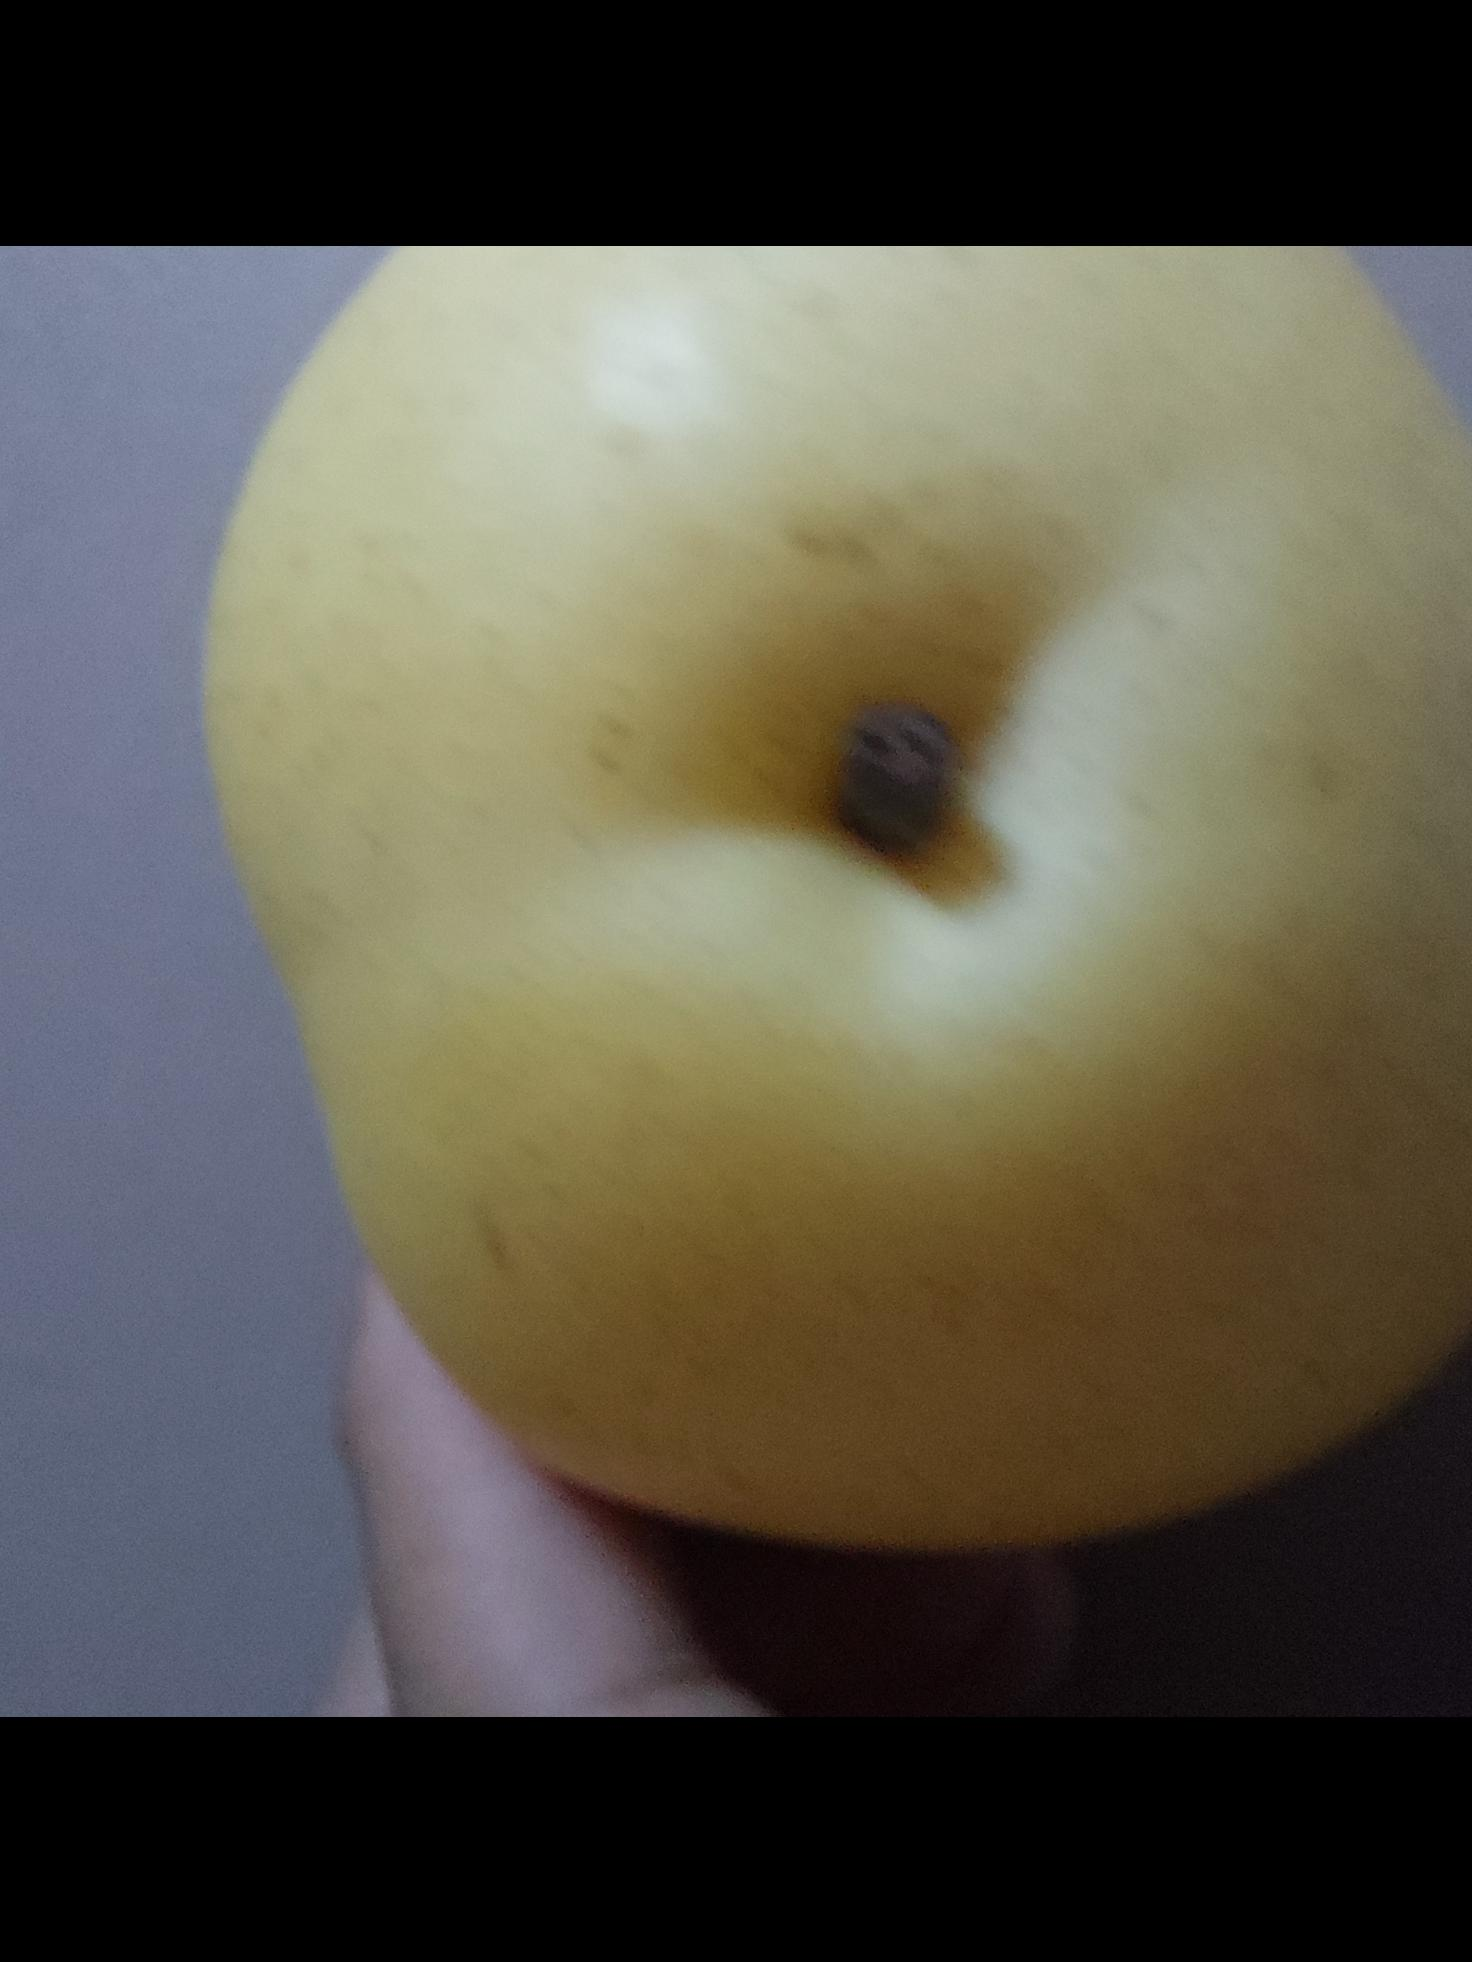Good Pear: (223, 245, 1472, 1565)
